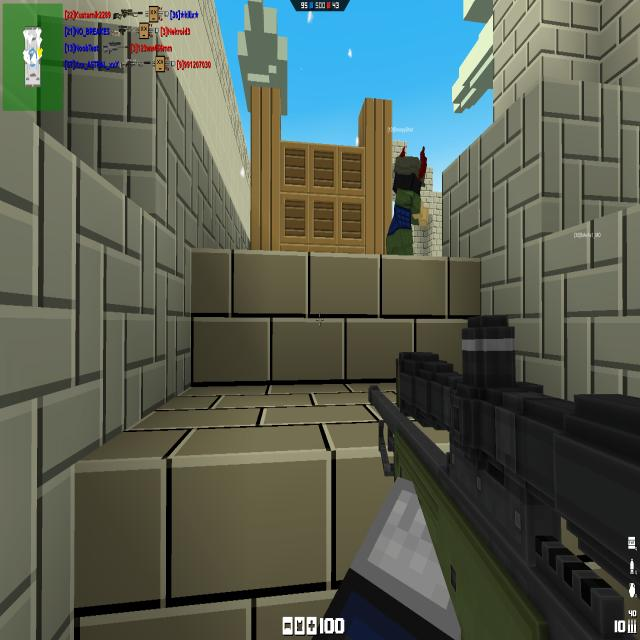player: (385, 147, 423, 257)
